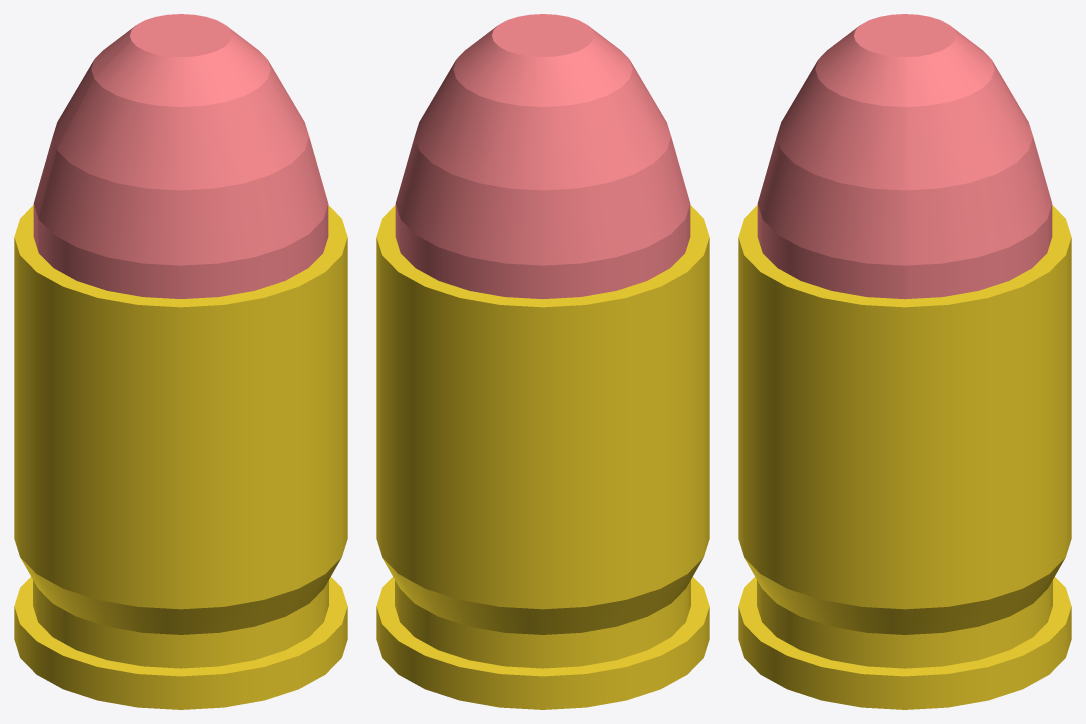
The model's file is kenney-weapon-ammo-machinegun-launcher.glb.
3 renders of one model, left to right at view 1: azimuth 30°, elevation 25°; view 2: azimuth 150°, elevation 25°; view 3: azimuth 270°, elevation 25°, orthographic.
Visible parts, largest first — view 1: Group (×2); view 2: Group (×2); view 3: Group (×2).
Boxes of the visible parts, x1,y1,x2,y2 form: Group (×2): (14,14,347,709); Group (×2): (376,14,709,709); Group (×2): (738,14,1071,709).
Bounding box in the file's own units: 0.0345 × 0.0689 × 0.0345.
